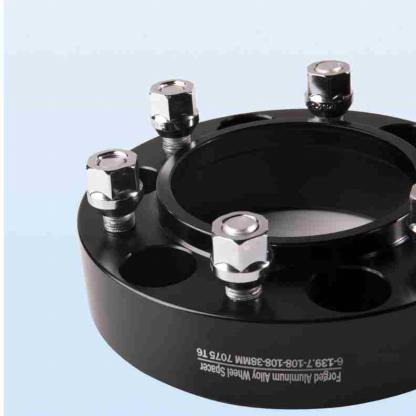FOD: (71, 100, 415, 414)
